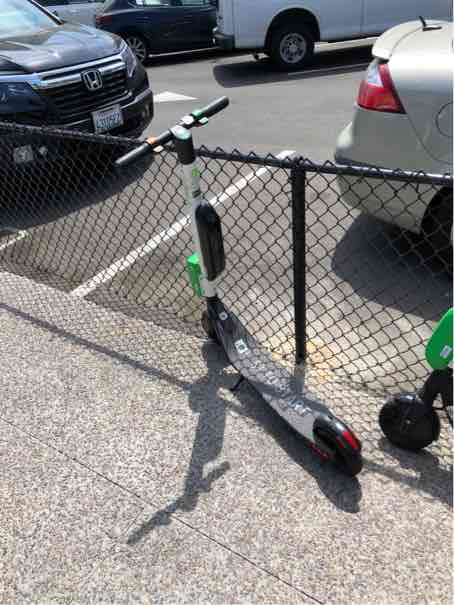scooter: (108, 88, 380, 490)
